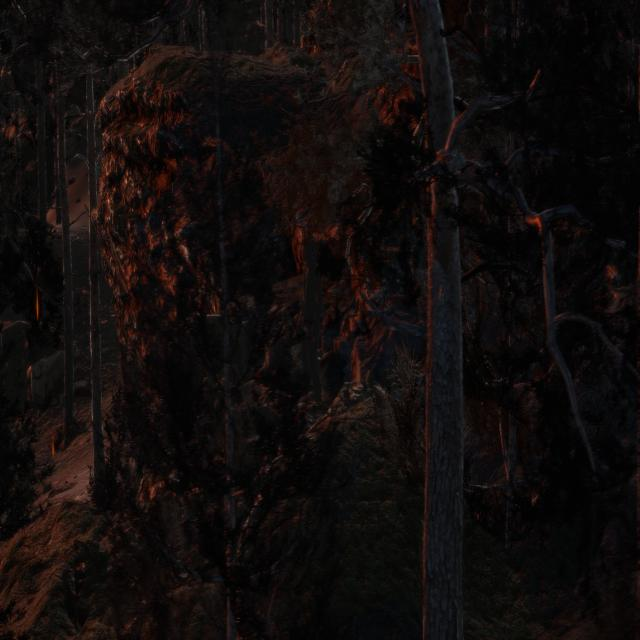Human: (300, 231, 331, 417)
